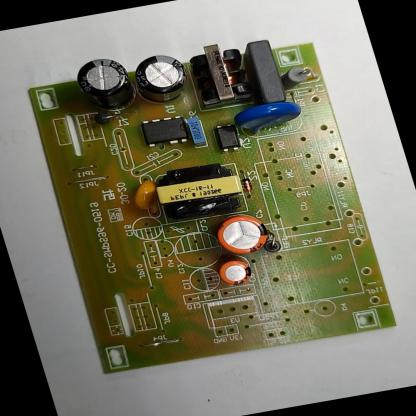Cap1: (212, 210, 272, 258)
Cap2: (218, 258, 255, 288)
Cap3: (126, 51, 193, 105)
Cap4: (73, 54, 142, 116)
MOSFET: (140, 113, 192, 148)
Mov: (232, 98, 308, 137)
Resistor: (278, 64, 315, 92)
Transformer: (151, 159, 247, 222), (184, 40, 256, 110)
